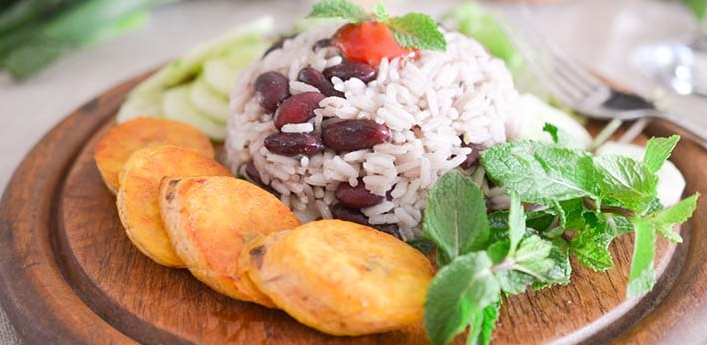conconbre: (152, 43, 228, 117)
haricots: (263, 75, 310, 145)
menthe: (499, 144, 637, 245)
pigment: (334, 23, 392, 53)
plaintain banane: (98, 127, 222, 257)
riz: (385, 64, 507, 120)
